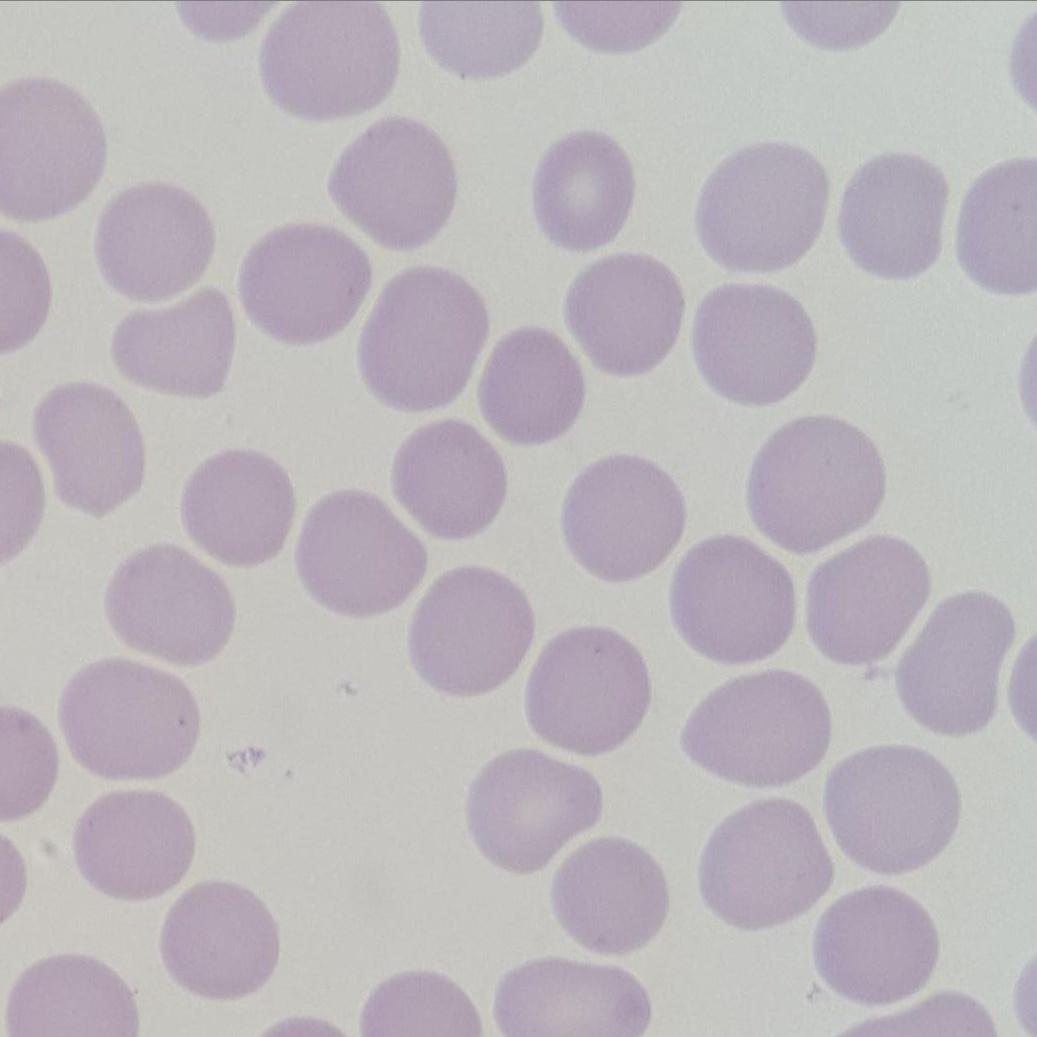Uninfected: (356, 269, 490, 411), (748, 417, 886, 553), (893, 589, 1017, 737), (695, 800, 834, 929), (60, 658, 202, 783), (681, 671, 832, 787), (693, 143, 828, 272), (824, 745, 957, 875), (102, 544, 236, 673), (326, 118, 458, 248), (295, 490, 429, 618), (406, 568, 537, 697), (668, 537, 799, 666), (464, 749, 598, 874), (258, 5, 401, 122), (523, 627, 652, 755), (238, 223, 372, 345), (32, 382, 149, 519), (805, 536, 929, 665), (560, 454, 686, 580), (689, 283, 816, 405), (2, 76, 109, 218), (562, 255, 686, 377), (389, 420, 510, 542), (813, 885, 938, 1003), (96, 182, 218, 300), (159, 882, 279, 1001), (838, 153, 950, 279), (180, 448, 297, 567), (549, 836, 669, 951), (73, 791, 198, 900), (112, 291, 237, 400), (532, 131, 638, 253), (477, 329, 586, 444)
